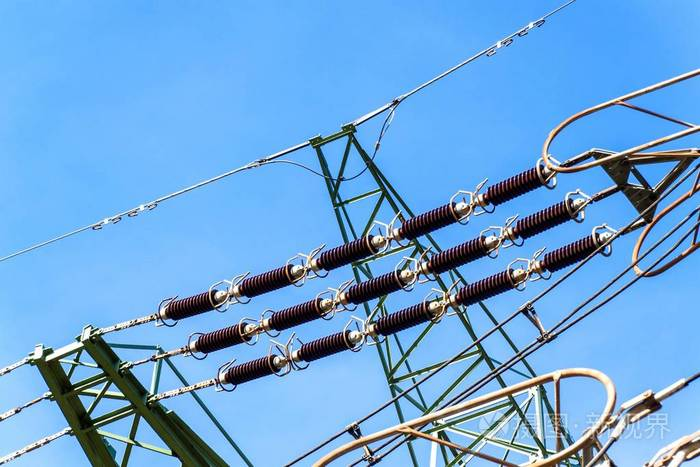insulator: (429, 235, 490, 274), (485, 166, 547, 204), (542, 233, 604, 271), (516, 200, 577, 238), (457, 268, 519, 305), (401, 201, 459, 240), (374, 302, 433, 336), (321, 236, 377, 269), (223, 353, 279, 386), (349, 272, 405, 304), (267, 300, 323, 331), (241, 266, 297, 297), (295, 332, 354, 361), (164, 289, 218, 319), (197, 322, 251, 351)
